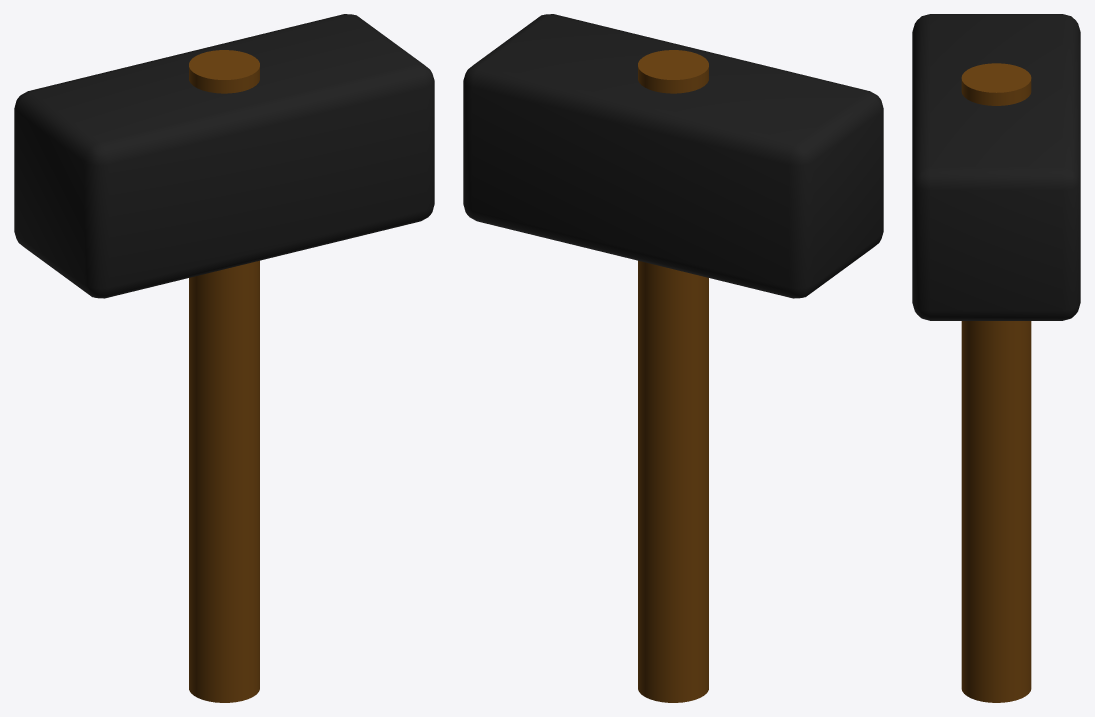
The model's file is hammer.fbx.
3 views of the same model, side by side, from view 1: azimuth 30°, elevation 25°; view 2: azimuth 150°, elevation 25°; view 3: azimuth 270°, elevation 25° (orthographic). The views are drawn at different scales.
Parts seen in each view (by area): view 1: 立方体; view 2: 立方体; view 3: 立方体.
Boxes of the visible parts, <box> form: 立方体: <box>14,14,434,702</box>; 立方体: <box>463,14,883,702</box>; 立方体: <box>912,14,1080,702</box>.
Size of the model in its own units: 342 by 585 by 146.
